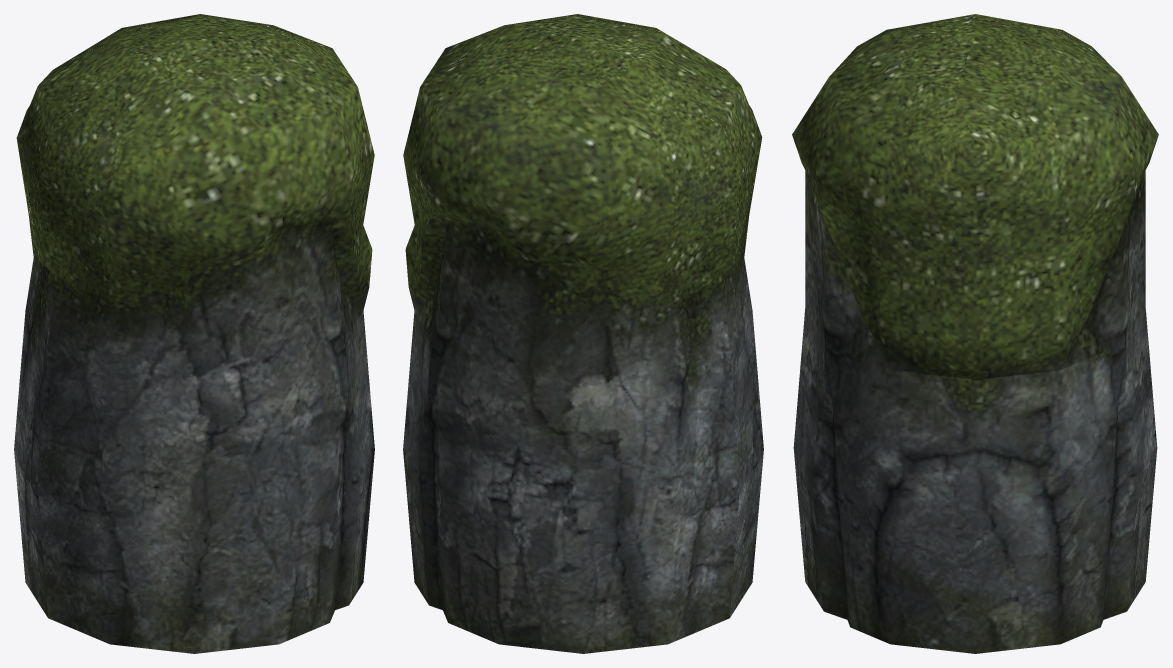
File: moss_rock_03.fbx
3 renders of one model, left to right at view 1: azimuth 30°, elevation 25°; view 2: azimuth 150°, elevation 25°; view 3: azimuth 270°, elevation 25°, orthographic.
Parts seen in each view (by area): view 1: objMoss_rock03; view 2: objMoss_rock03; view 3: objMoss_rock03.
Boxes of the visible parts, x1,y1,x2,y2 form: objMoss_rock03: (14,14,374,653); objMoss_rock03: (403,14,763,653); objMoss_rock03: (792,14,1158,653).
Bounding box in the file's own units: 2.65 × 4.3 × 2.62.
